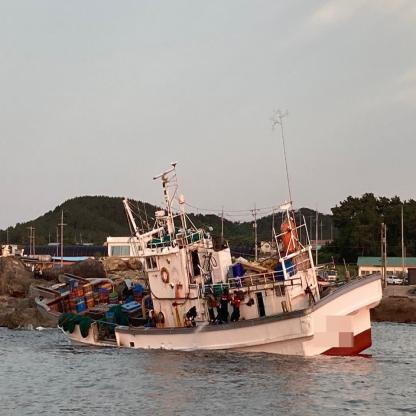fish-b: (34, 158, 386, 368)
